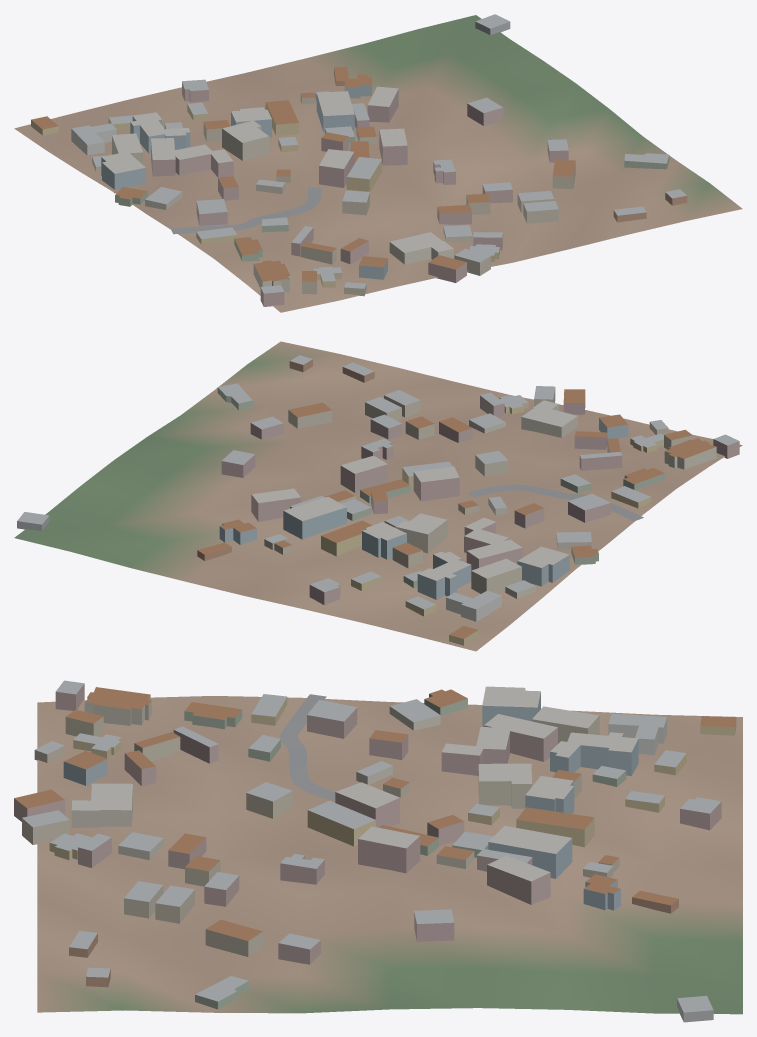
3 renders of one model, top to bottom at view 1: azimuth 30°, elevation 25°; view 2: azimuth 150°, elevation 25°; view 3: azimuth 270°, elevation 25°, orthographic. The views are drawn at different scales.
Parts seen in each view (by area): view 1: Lo; view 2: Lo; view 3: Lo.
Part boxes in pixels (x1=…): Lo: x1=14, y1=14, x2=742, y2=312; Lo: x1=14, y1=341, x2=742, y2=651; Lo: x1=14, y1=680, x2=742, y2=1022.
Bounding box in the file's own units: 268 × 16.02 × 264.
